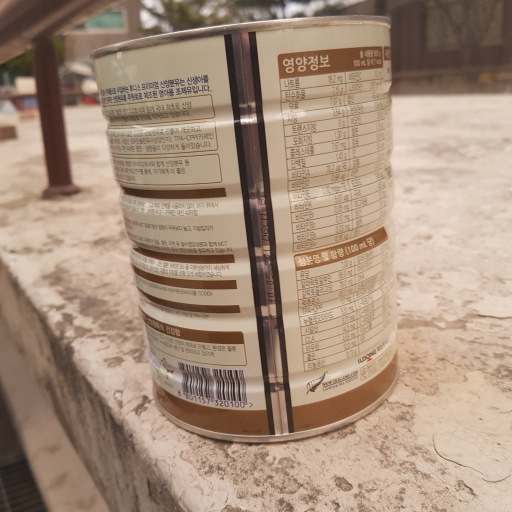Metal_1: (92, 16, 402, 439)
